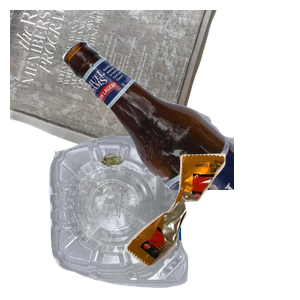glass: (60, 38, 300, 218)
paper: (10, 10, 222, 176)
plastic: (46, 130, 227, 300)
trash: (122, 151, 300, 300)
